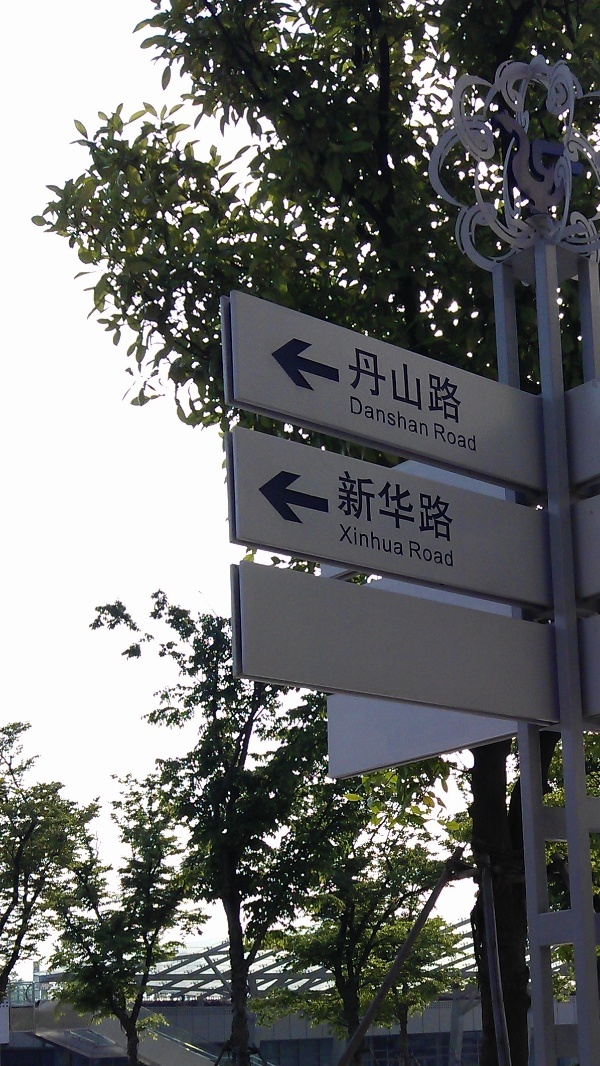text: (353, 344, 368, 427), (369, 344, 384, 427), (385, 344, 400, 427), (401, 344, 416, 427), (417, 344, 432, 427), (433, 344, 448, 427), (337, 467, 352, 546), (353, 467, 368, 546), (369, 467, 384, 546), (385, 467, 400, 546), (401, 467, 416, 546), (417, 467, 432, 546), (433, 467, 448, 546), (449, 344, 462, 427), (353, 393, 368, 439), (369, 393, 384, 439), (385, 393, 400, 439), (401, 393, 416, 439), (417, 393, 430, 439), (353, 522, 368, 558), (369, 522, 384, 558), (385, 522, 400, 558), (449, 467, 455, 546), (339, 522, 352, 558), (433, 422, 448, 453), (449, 422, 464, 453), (417, 540, 432, 569), (433, 540, 448, 569), (465, 422, 478, 453), (348, 344, 352, 427), (409, 540, 416, 569), (449, 540, 455, 569), (401, 522, 405, 558), (349, 393, 352, 439)
